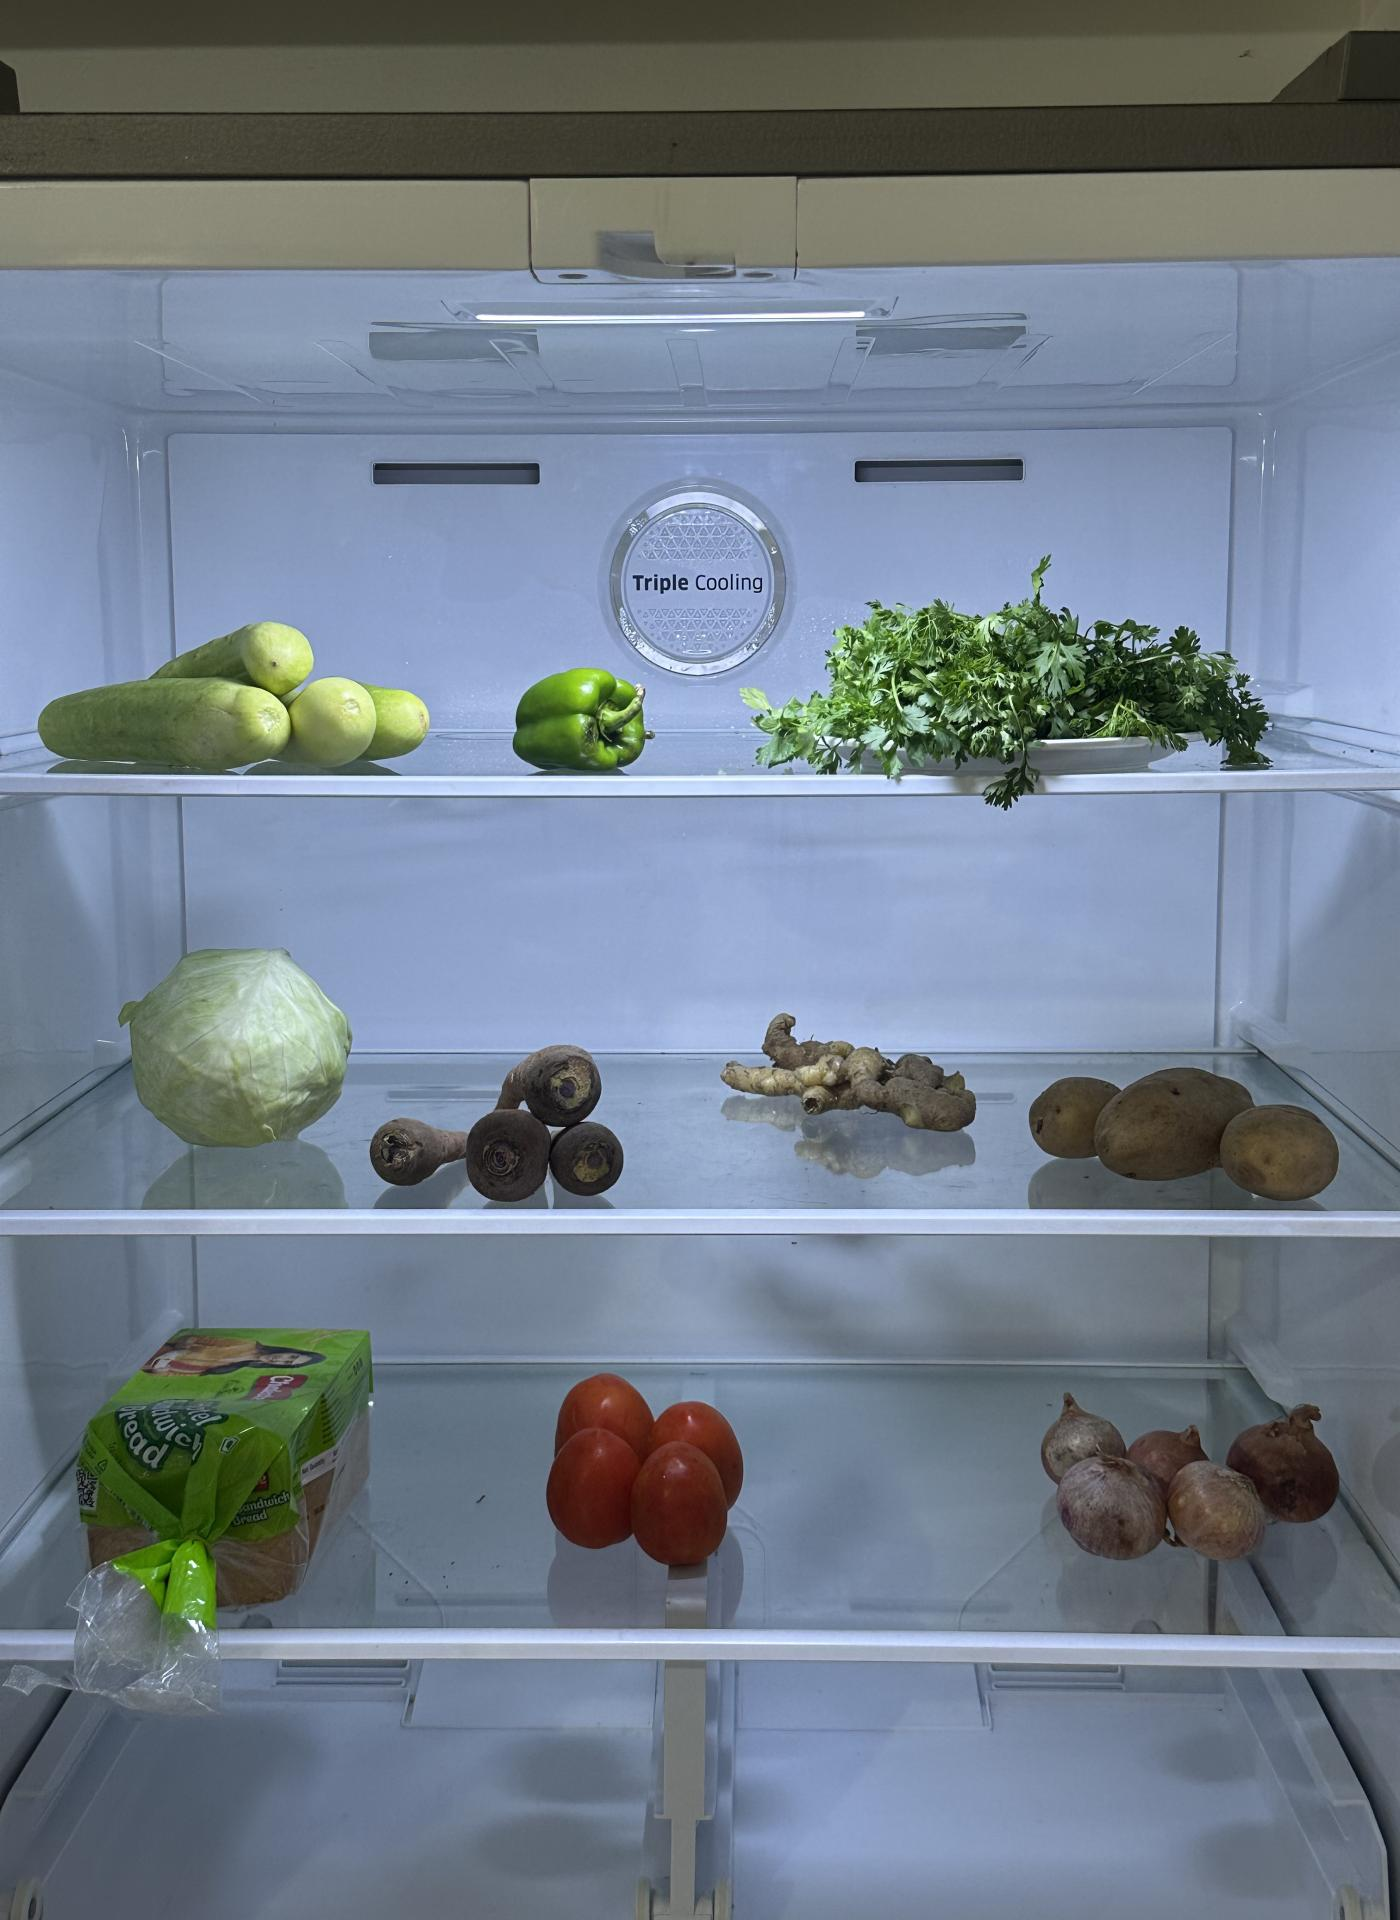bread: (69, 1318, 377, 1613)
cabbage: (121, 947, 356, 1152)
capsicum: (511, 663, 658, 772)
carrots: (370, 1036, 629, 1199)
coriander: (772, 596, 1264, 772)
cucumber: (27, 626, 422, 793)
ginger: (722, 1020, 980, 1139)
onion: (1044, 1385, 1346, 1564)
potato: (1032, 1055, 1345, 1193)
tomato: (546, 1370, 753, 1576)
